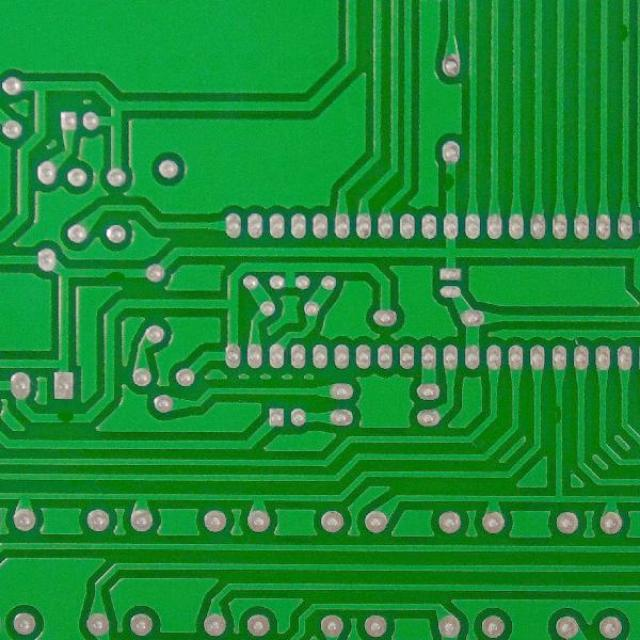MouseBite: (616, 16, 634, 50), (50, 408, 80, 426), (442, 168, 459, 196), (104, 266, 129, 280), (552, 400, 564, 428)
